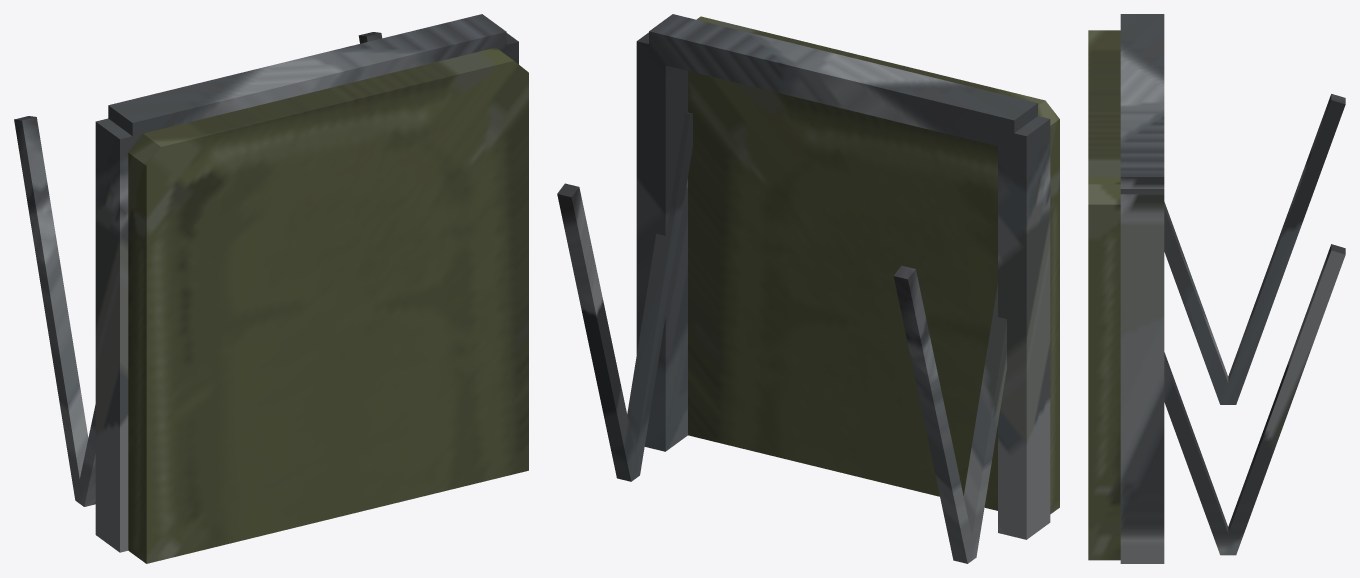
Rendered from pz_bed_bedding_01_stretcher_0_1.obj.
3 views of the same model, side by side, from view 1: azimuth 30°, elevation 25°; view 2: azimuth 150°, elevation 25°; view 3: azimuth 270°, elevation 25° (orthographic). The views are drawn at different scales.
Bounding box in the file's own units: 0.95 × 0.97 × 0.5935.
1 material, 1 textured.
